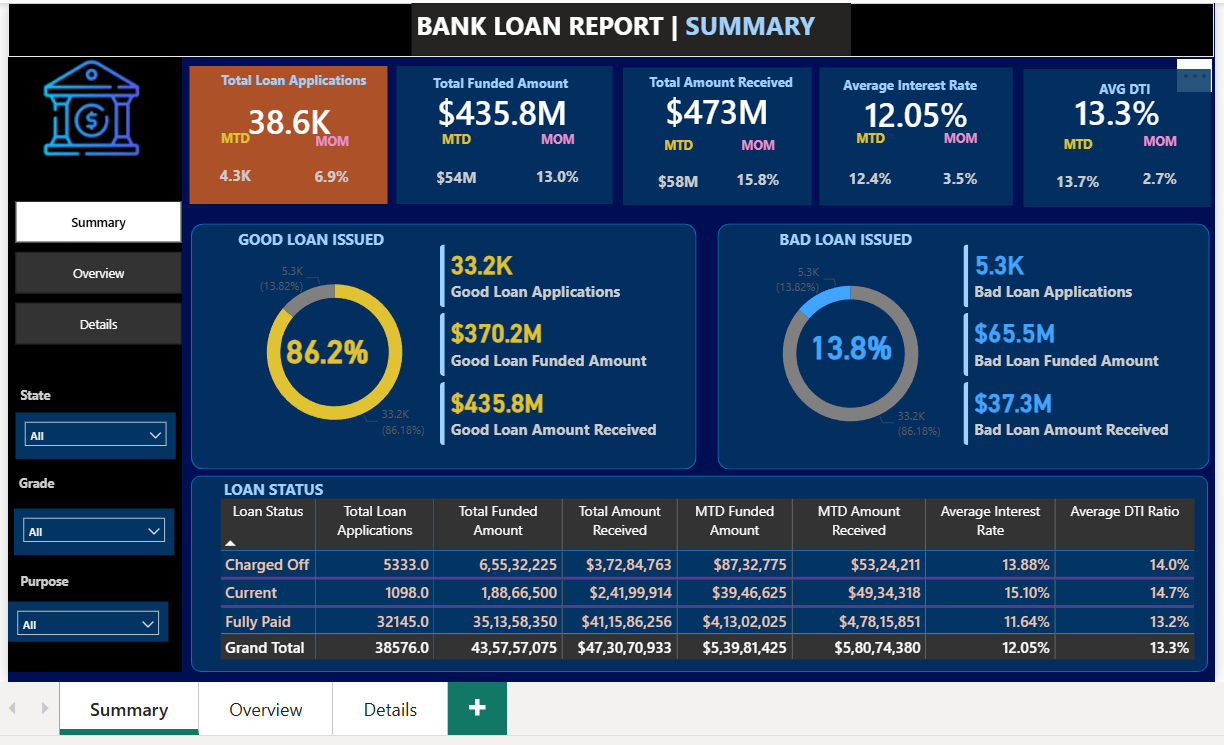

What the dashboard file says about the page in this screenshot:
{"tool":"powerbi","page":{"name":"Summary","canvas":[1280,720],"ordinal":0},"visuals":[{"type":"shape","box":[0,55.7,184.5,653.7],"z":0},{"type":"shape","box":[412.1,66.8,229,146.3],"z":0,"group":"g1"},{"type":"shape","box":[651.9,68.4,200,146],"z":0,"group":"g2"},{"type":"shape","box":[861.5,68.4,205,146.3],"z":0,"group":"g4"},{"type":"shape","box":[1075.9,70,198.7,146.3],"z":0,"group":"g5"},{"type":"shape","box":[0,0,1278.9,57.3],"z":1000},{"type":"textbox","box":[207.7,67.1,189.3,38.2],"z":1000,"group":"g3"},{"type":"textbox","box":[660.6,69.1,189.3,28.6],"z":1000,"group":"g2"},{"type":"textbox","box":[422.2,69.7,198.8,31.8],"z":1000,"group":"g1"},{"type":"textbox","box":[869.4,71.6,176.1,35],"z":1000,"group":"g4"},{"type":"textbox","box":[1087.1,76.7,192.8,35],"z":1000,"group":"g5"},{"type":"cardVisual","fields":{"Data":["bank_loan_data.Total Amount Received"]},"box":[650.1,74.1,202,77.9],"z":2000,"group":"g2"},{"type":"cardVisual","fields":{"Data":["bank_loan_data.Average Interest Rate"]},"box":[861,74.1,205.2,82.7],"z":2000,"group":"g4"},{"type":"cardVisual","fields":{"Data":["bank_loan_data.DTI Ratio"]},"box":[1075.1,74.8,202,79.5],"z":2000,"group":"g5"},{"type":"cardVisual","fields":{"Data":["bank_loan_data.Total Funded Amount"]},"box":[419,79.3,208.4,70],"z":2000,"group":"g1"},{"type":"cardVisual","fields":{"Data":["bank_loan_data.Total Loan Applications"]},"box":[193.4,89.7,208.4,70],"z":2000,"group":"g3"},{"type":"shape","box":[194.1,233.8,536,260.9],"z":2000},{"type":"cardVisual","title":"MTD","fields":{"Data":["bank_loan_data.MTD Average Interest Rate"]},"box":[862.6,133,105,82.7],"z":3000,"group":"g4"},{"type":"cardVisual","title":"MTD","fields":{"Data":["bank_loan_data.MTD Loan Applications"]},"box":[192.5,134.4,97,78],"z":3000,"group":"g3"},{"type":"cardVisual","title":"MTD","fields":{"Data":["bank_loan_data.MTD Funded Amount"]},"box":[411.6,135.2,127,77],"z":3000,"group":"g1"},{"type":"cardVisual","title":"MTD","fields":{"Data":["bank_loan_data.MTD Average DTI Ratio"]},"box":[1074.8,140.1,118.9,76.3],"z":3000,"group":"g5"},{"type":"cardVisual","title":"MTD","fields":{"Data":["bank_loan_data.MTD Amount Received"]},"box":[652.2,141.6,117.7,73.2],"z":3000,"group":"g2"},{"type":"textbox","box":[229,233.8,189.3,36.6],"z":3000},{"type":"textbox","box":[427.9,0,466,55.7],"z":4000},{"type":"cardVisual","title":"MOM","fields":{"Data":["bank_loan_data.MOM Average Interest Rate"]},"box":[954.9,133,111.3,82.7],"z":4000,"group":"g4"},{"type":"cardVisual","title":"MOM","fields":{"Data":["bank_loan_data.MOM Funded Amount"]},"box":[526.8,135.5,112.9,76.3],"z":4000,"group":"g1"},{"type":"cardVisual","title":"MOM","fields":{"Data":["bank_loan_data.MOM Average DTI Ratio"]},"box":[1166.7,137.3,108.1,76.3],"z":4000,"group":"g5"},{"type":"cardVisual","title":"MOM","fields":{"Data":["bank_loan_data.MOM Loan Applications"]},"box":[284.7,137.8,117.7,73],"z":4000,"group":"g3"},{"type":"cardVisual","title":"MOM","fields":{"Data":["bank_loan_data.MOM Amount Received"]},"box":[739.7,141.6,111.3,70],"z":4000,"group":"g2"},{"type":"donutChart","fields":{"Category":["bank_loan_data.Good  vs Bad Loan"],"Y":["bank_loan_data.Total Loan Applications"]},"box":[222.7,257.7,246.5,224.3],"z":5000},{"type":"group","id":"g1","title":"Group 1","box":[411.6,66.8,229.5,146.3],"z":6000},{"type":"cardVisual","fields":{"Data":["bank_loan_data.Good Loan Percentage"]},"box":[265.6,337.2,146.3,63.6],"z":7000},{"type":"group","id":"g2","title":"Group 1","box":[650.1,68.4,202,146.4],"z":8000},{"type":"group","id":"g3","title":"Group 1","box":[192.5,67.1,209.9,145.3],"z":9000},{"type":"group","id":"g4","title":"Group 1","box":[861,68.4,205.5,147.3],"z":10000},{"type":"shape","box":[752.4,233.8,521.7,260.9],"z":11000},{"type":"group","id":"g5","title":"Group 1","box":[1074.8,70,205.1,146.4],"z":12000},{"type":"cardVisual","fields":{"Data":["bank_loan_data.Good Loan Applications","bank_loan_data.Good Loan Funded Amount","bank_loan_data.Good Loan Amount Received"]},"box":[440.6,238.6,287.9,249.7],"z":13000},{"type":"donutChart","fields":{"Category":["bank_loan_data.Good  vs Bad Loan"],"Y":["bank_loan_data.Total Loan Applications"]},"box":[769.9,259.3,246.5,224.3],"z":14000},{"type":"cardVisual","fields":{"Data":["bank_loan_data.Bad Loan Percentage"]},"box":[820.8,332.4,146.3,63.6],"z":15000},{"type":"textbox","box":[793.7,233.8,189.3,36.6],"z":16000},{"type":"shape","box":[194.1,501,1078.4,208.4],"z":17000},{"type":"cardVisual","fields":{"Data":["bank_loan_data.Bad Loan Applications","bank_loan_data.Bad Loan Funded Amount","bank_loan_data.Bad Loan Amount Received"]},"box":[995.7,238.6,278.4,249.7],"z":18000},{"type":"tableEx","fields":{"Values":["bank_loan_data.loan_status","bank_loan_data.Total Loan Applications","bank_loan_data.Total Funded Amount","bank_loan_data.Total Amount Received","bank_loan_data.MTD Funded Amount","bank_loan_data.MTD Amount Received","bank_loan_data.Average Interest Rate","bank_loan_data.Average DTI Ratio"]},"box":[219.5,520.1,1053,200.4],"z":19000},{"type":"textbox","box":[219.5,499.5,189.3,36.6],"z":20000},{"type":"slicer","fields":{"Values":["bank_loan_data.address_state"]},"box":[8,434.2,170.2,49.3],"z":21000},{"type":"textbox","box":[8,400.8,85.9,36.6],"z":22000},{"type":"slicer","fields":{"Values":["bank_loan_data.grade"]},"box":[6.4,536,170.2,49.3],"z":23000},{"type":"textbox","box":[6.4,494.7,85.9,36.6],"z":24000},{"type":"slicer","fields":{"Values":["bank_loan_data.purpose"]},"box":[0,634.7,170.2,42.9],"z":25000},{"type":"textbox","box":[8,598.1,85.9,36.6],"z":26000},{"type":"image","box":[8,41.4,170.2,149.5],"z":27000},{"type":"pageNavigator","box":[8,210,176.6,154.3],"z":28000}]}

Visuals, with their boxes on the page's 1280x720 design canvas (x1, y1, x2, y2). These are canvas units, not pixel positions in the 1224x745 screenshot, which may show the page scaled, cropped or inside an application window:
shape: x1=0 y1=56 x2=184 y2=709
shape: x1=412 y1=67 x2=641 y2=213
shape: x1=652 y1=68 x2=852 y2=214
shape: x1=862 y1=68 x2=1066 y2=215
shape: x1=1076 y1=70 x2=1275 y2=216
shape: x1=0 y1=0 x2=1279 y2=57
textbox: x1=208 y1=67 x2=397 y2=105
textbox: x1=661 y1=69 x2=850 y2=98
textbox: x1=422 y1=70 x2=621 y2=102
textbox: x1=869 y1=72 x2=1046 y2=107
textbox: x1=1087 y1=77 x2=1280 y2=112
cardVisual - bank_loan_data.Total Amount Received: x1=650 y1=74 x2=852 y2=152
cardVisual - bank_loan_data.Average Interest Rate: x1=861 y1=74 x2=1066 y2=157
cardVisual - bank_loan_data.DTI Ratio: x1=1075 y1=75 x2=1277 y2=154
cardVisual - bank_loan_data.Total Funded Amount: x1=419 y1=79 x2=627 y2=149
cardVisual - bank_loan_data.Total Loan Applications: x1=193 y1=90 x2=402 y2=160
shape: x1=194 y1=234 x2=730 y2=495
"MTD" cardVisual: x1=863 y1=133 x2=968 y2=216
"MTD" cardVisual: x1=192 y1=134 x2=290 y2=212
"MTD" cardVisual: x1=412 y1=135 x2=539 y2=212
"MTD" cardVisual: x1=1075 y1=140 x2=1194 y2=216
"MTD" cardVisual: x1=652 y1=142 x2=770 y2=215
textbox: x1=229 y1=234 x2=418 y2=270
textbox: x1=428 y1=0 x2=894 y2=56
"MOM" cardVisual: x1=955 y1=133 x2=1066 y2=216
"MOM" cardVisual: x1=527 y1=136 x2=640 y2=212
"MOM" cardVisual: x1=1167 y1=137 x2=1275 y2=214
"MOM" cardVisual: x1=285 y1=138 x2=402 y2=211
"MOM" cardVisual: x1=740 y1=142 x2=851 y2=212
donutChart - bank_loan_data.Good  vs Bad Loan x bank_loan_data.Total Loan Applications: x1=223 y1=258 x2=469 y2=482
"Group 1" group: x1=412 y1=67 x2=641 y2=213
cardVisual - bank_loan_data.Good Loan Percentage: x1=266 y1=337 x2=412 y2=401
"Group 1" group: x1=650 y1=68 x2=852 y2=215
"Group 1" group: x1=192 y1=67 x2=402 y2=212
"Group 1" group: x1=861 y1=68 x2=1066 y2=216
shape: x1=752 y1=234 x2=1274 y2=495
"Group 1" group: x1=1075 y1=70 x2=1280 y2=216
cardVisual - bank_loan_data.Good Loan Applications x bank_loan_data.Good Loan Funded Amount: x1=441 y1=239 x2=728 y2=488
donutChart - bank_loan_data.Good  vs Bad Loan x bank_loan_data.Total Loan Applications: x1=770 y1=259 x2=1016 y2=484
cardVisual - bank_loan_data.Bad Loan Percentage: x1=821 y1=332 x2=967 y2=396
textbox: x1=794 y1=234 x2=983 y2=270
shape: x1=194 y1=501 x2=1272 y2=709
cardVisual - bank_loan_data.Bad Loan Applications x bank_loan_data.Bad Loan Funded Amount: x1=996 y1=239 x2=1274 y2=488
tableEx - bank_loan_data.loan_status x bank_loan_data.Total Loan Applications: x1=220 y1=520 x2=1272 y2=720
textbox: x1=220 y1=500 x2=409 y2=536
slicer - bank_loan_data.address_state: x1=8 y1=434 x2=178 y2=484
textbox: x1=8 y1=401 x2=94 y2=437
slicer - bank_loan_data.grade: x1=6 y1=536 x2=177 y2=585
textbox: x1=6 y1=495 x2=92 y2=531
slicer - bank_loan_data.purpose: x1=0 y1=635 x2=170 y2=678
textbox: x1=8 y1=598 x2=94 y2=635
image: x1=8 y1=41 x2=178 y2=191
pageNavigator: x1=8 y1=210 x2=185 y2=364
